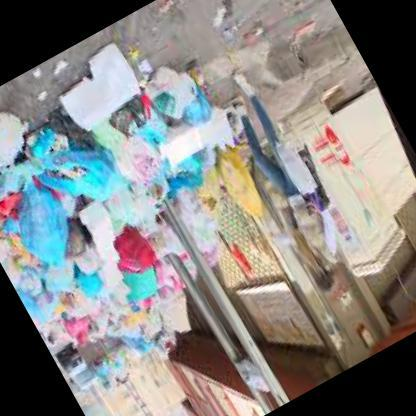Garbage: (0, 57, 176, 325), (17, 102, 150, 248), (102, 31, 221, 154), (0, 182, 85, 282), (97, 208, 164, 292), (204, 148, 266, 228), (0, 94, 49, 181), (49, 292, 100, 350), (121, 274, 170, 334), (94, 356, 130, 390), (0, 127, 15, 199)
